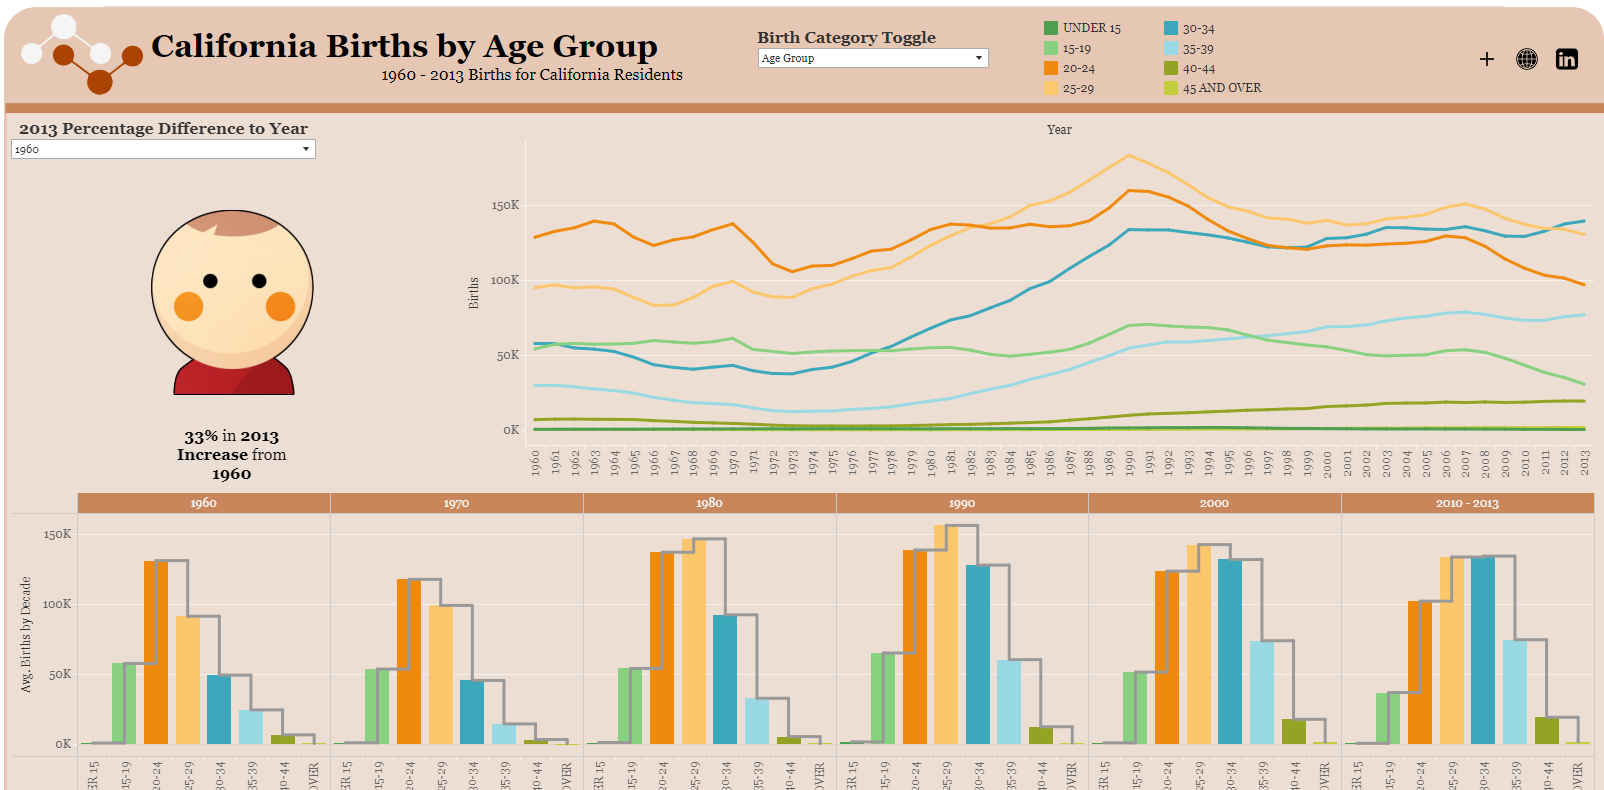

The dashboard page shown, as its layout file describes it:
{"tool":"tableau","page":{"name":"Dashboard 1","canvas":[1600,900],"ordinal":0},"visuals":[{"type":"image","param":"C:/repos/github/internet_usage/tableau_background.svg","box":[0,0,1600,900]}]}

Visuals, with their boxes on the page's 1600x900 design canvas (x1, y1, x2, y2). These are canvas units, not pixel positions in the 1604x790 screenshot, which may show the page scaled, cropped or inside an application window:
image: Rect(0, 0, 1600, 900)
